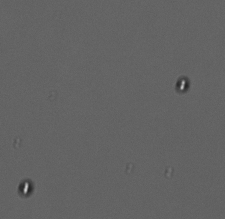Living Cell: (172, 75, 191, 93), (16, 179, 35, 197)
